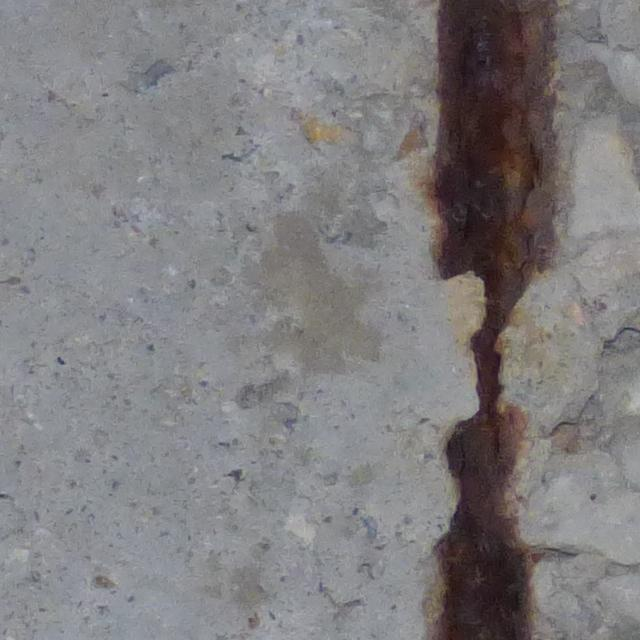Rust: (424, 1, 559, 640)
